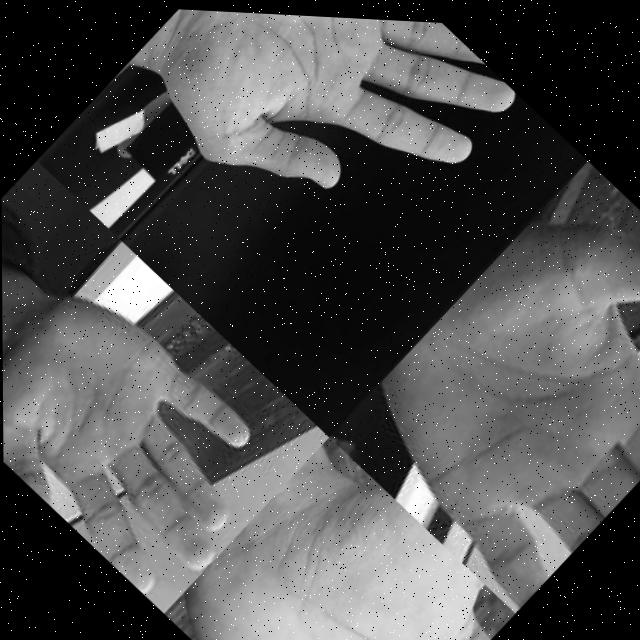hand: (330, 142, 640, 608), (115, 5, 526, 295), (2, 258, 299, 616), (161, 425, 515, 640)
